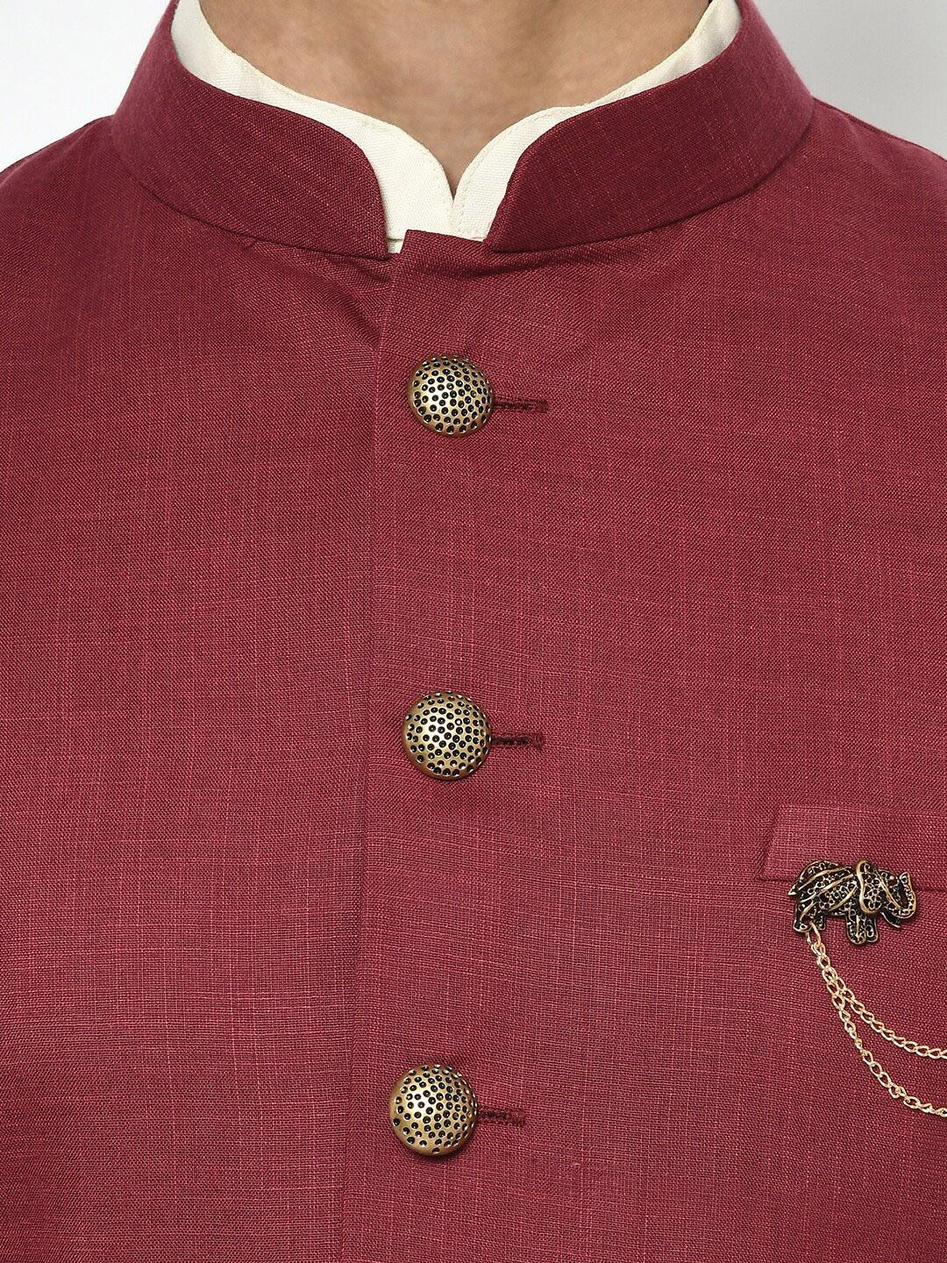Plain Sherwani: (4, 7, 946, 1249)
